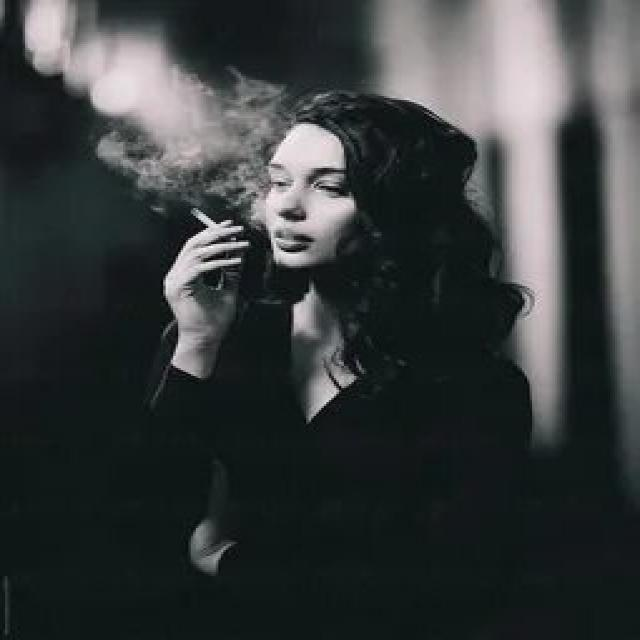cigarette: (186, 204, 228, 240)
